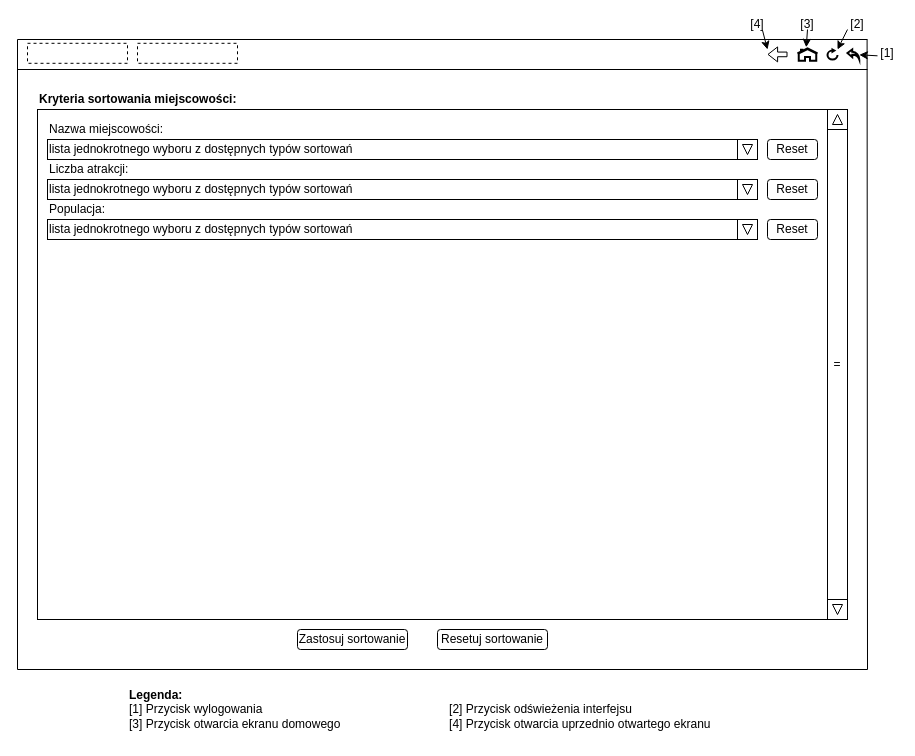
This 915x756 diagram has some shape labels left out. Each missing label, with the box of its shape:
login: (26, 42, 128, 63)
rola: (136, 42, 238, 63)
